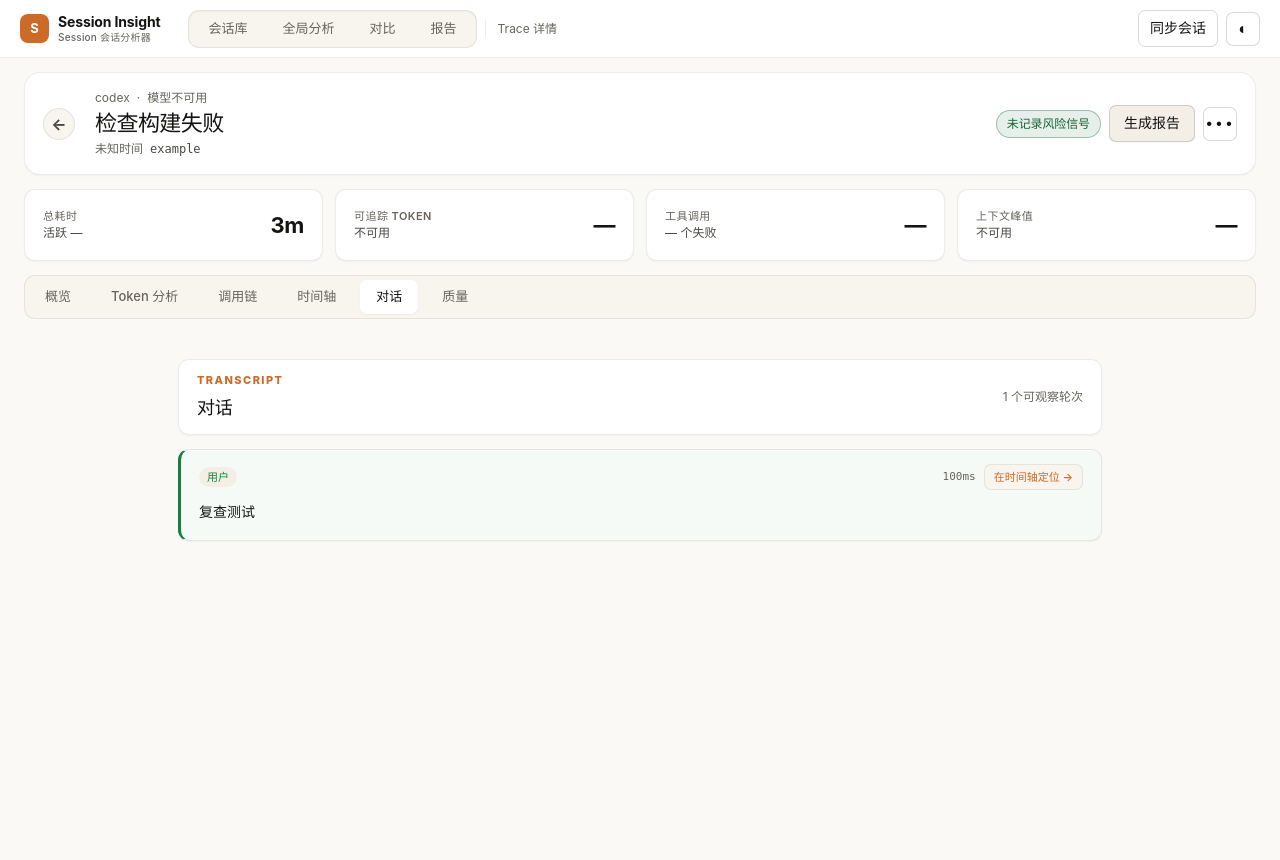
it: analysis workflow › clears incompatible filters when locating a conversation turn
This screenshot has width=1280, height=860.
Expected: the element with test id "session-detail" is shown, [24, 72, 1256, 541]
What coordinates should you click on to do the following:
click the button "在时间轴定位 →"
I would click on:
 (1033, 477)
Its box is [984, 464, 1083, 490].
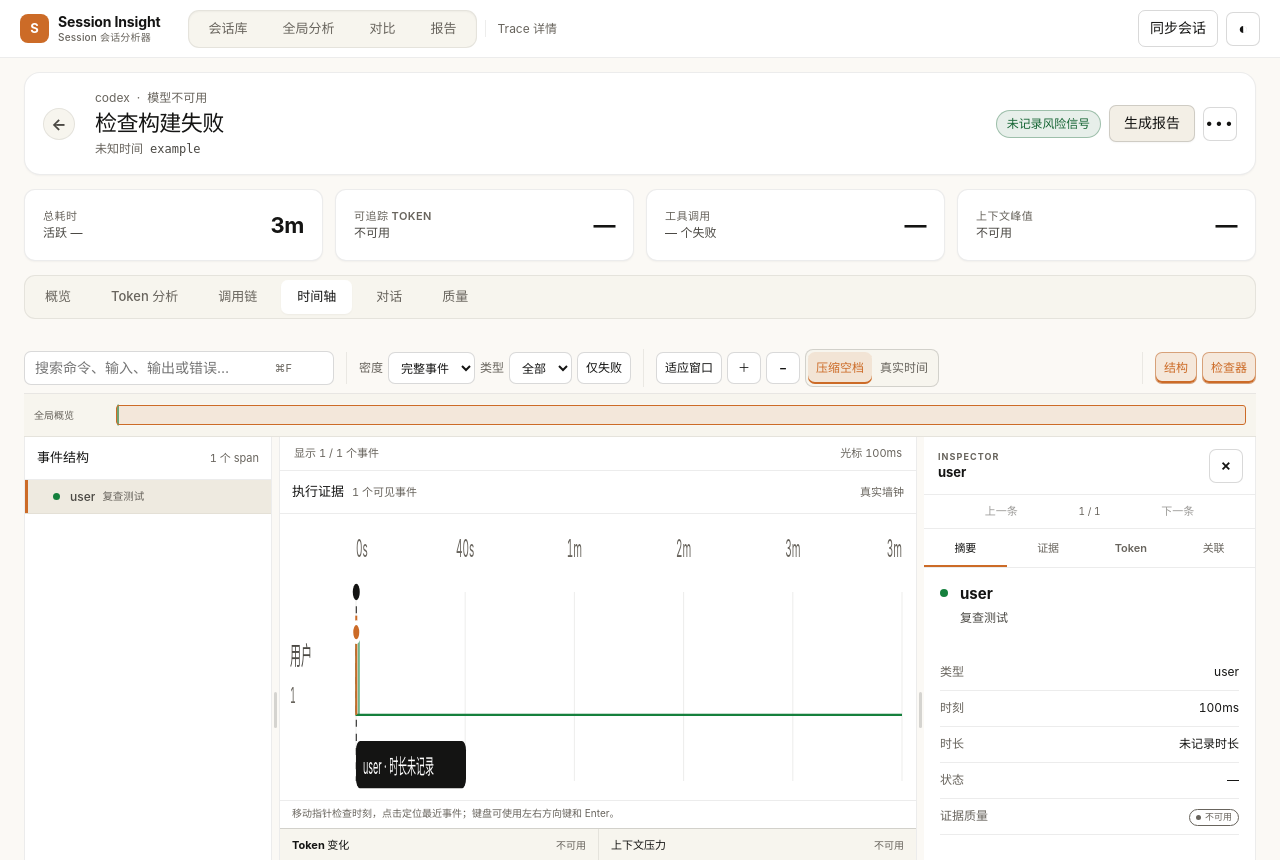
Expected: the dropdown named "事件类型" shows "全部", [509, 352, 572, 384]
Expected: the search field named "搜索事件" is empty, [24, 351, 334, 385]
